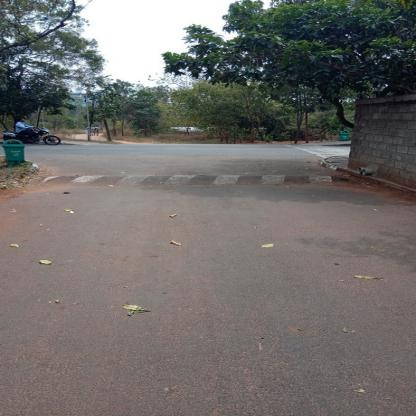speed-bumps: (25, 168, 362, 189)
